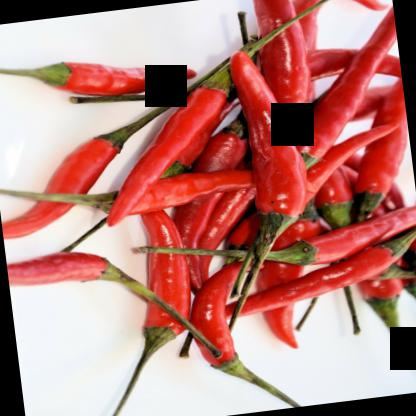chilli: (6, 237, 222, 385), (210, 183, 415, 325), (80, 201, 209, 415), (90, 66, 266, 222), (0, 98, 181, 244), (222, 45, 322, 287), (284, 0, 411, 169), (185, 255, 304, 415), (0, 33, 202, 112), (340, 36, 415, 215), (254, 198, 415, 273), (227, 0, 313, 128)
